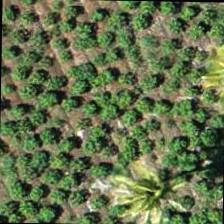Kelapa_Sawit: (103, 155, 196, 223)
